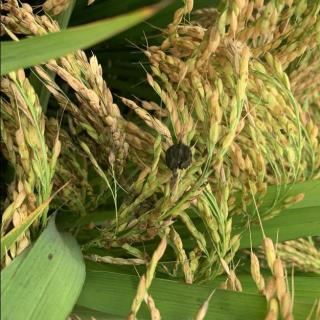Gosong-Palsu: (163, 142, 194, 174)
